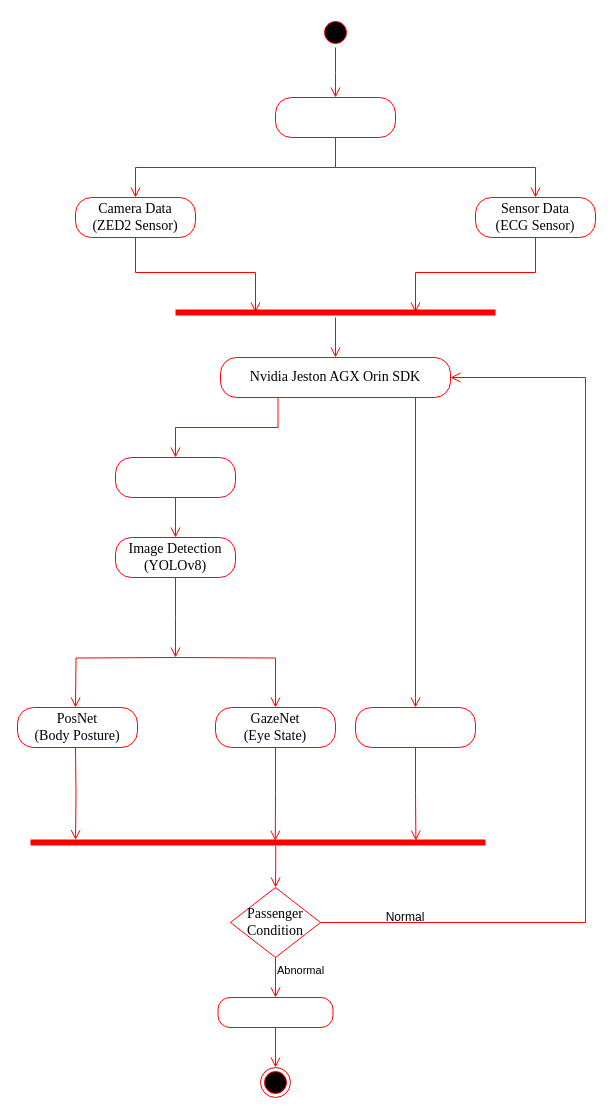
Image size: 613x1115. Some labels were removed from this diagram. The centre of each missing label's shape, as x and y in pixels:
"Emergency alerts(V2X)" belongs at pixel 275 1012.
"Passenger" belongs at pixel 335 117.
"Preprocesing Data" belongs at pixel 175 477.
"Pulse rate (BPM)" belongs at pixel 415 727.
